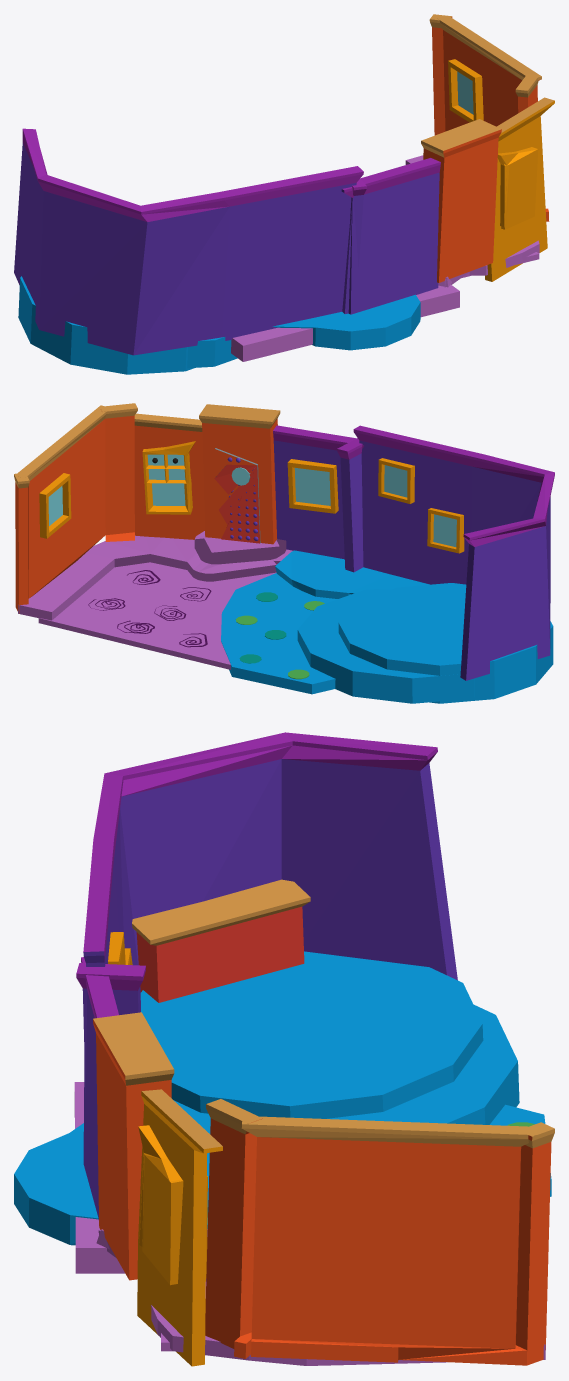
Rendered from scene_Xk6HBN5mn4.glb.
3 views of the same model, one above another, from view 1: azimuth 30°, elevation 25°; view 2: azimuth 150°, elevation 25°; view 3: azimuth 270°, elevation 25° (orthographic). The views are drawn at different scales.
Visible parts, largest first — view 1: Node; view 2: Node; view 3: Node.
Boxes of the visible parts, box(x1,y1,x2,y2) form: Node: box(14, 14, 554, 374); Node: box(14, 403, 554, 703); Node: box(14, 732, 554, 1366).
Bounding box in the file's own units: 1.94 × 0.6863 × 1.14.
